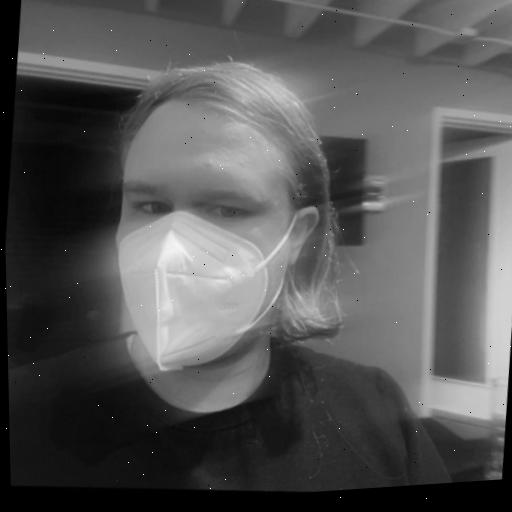mask: (70, 45, 365, 441)
